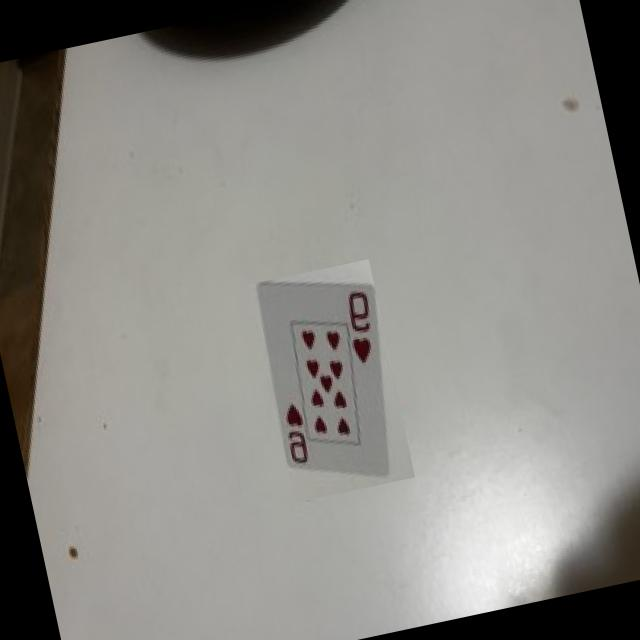9 of hearts: (256, 281, 391, 480)
